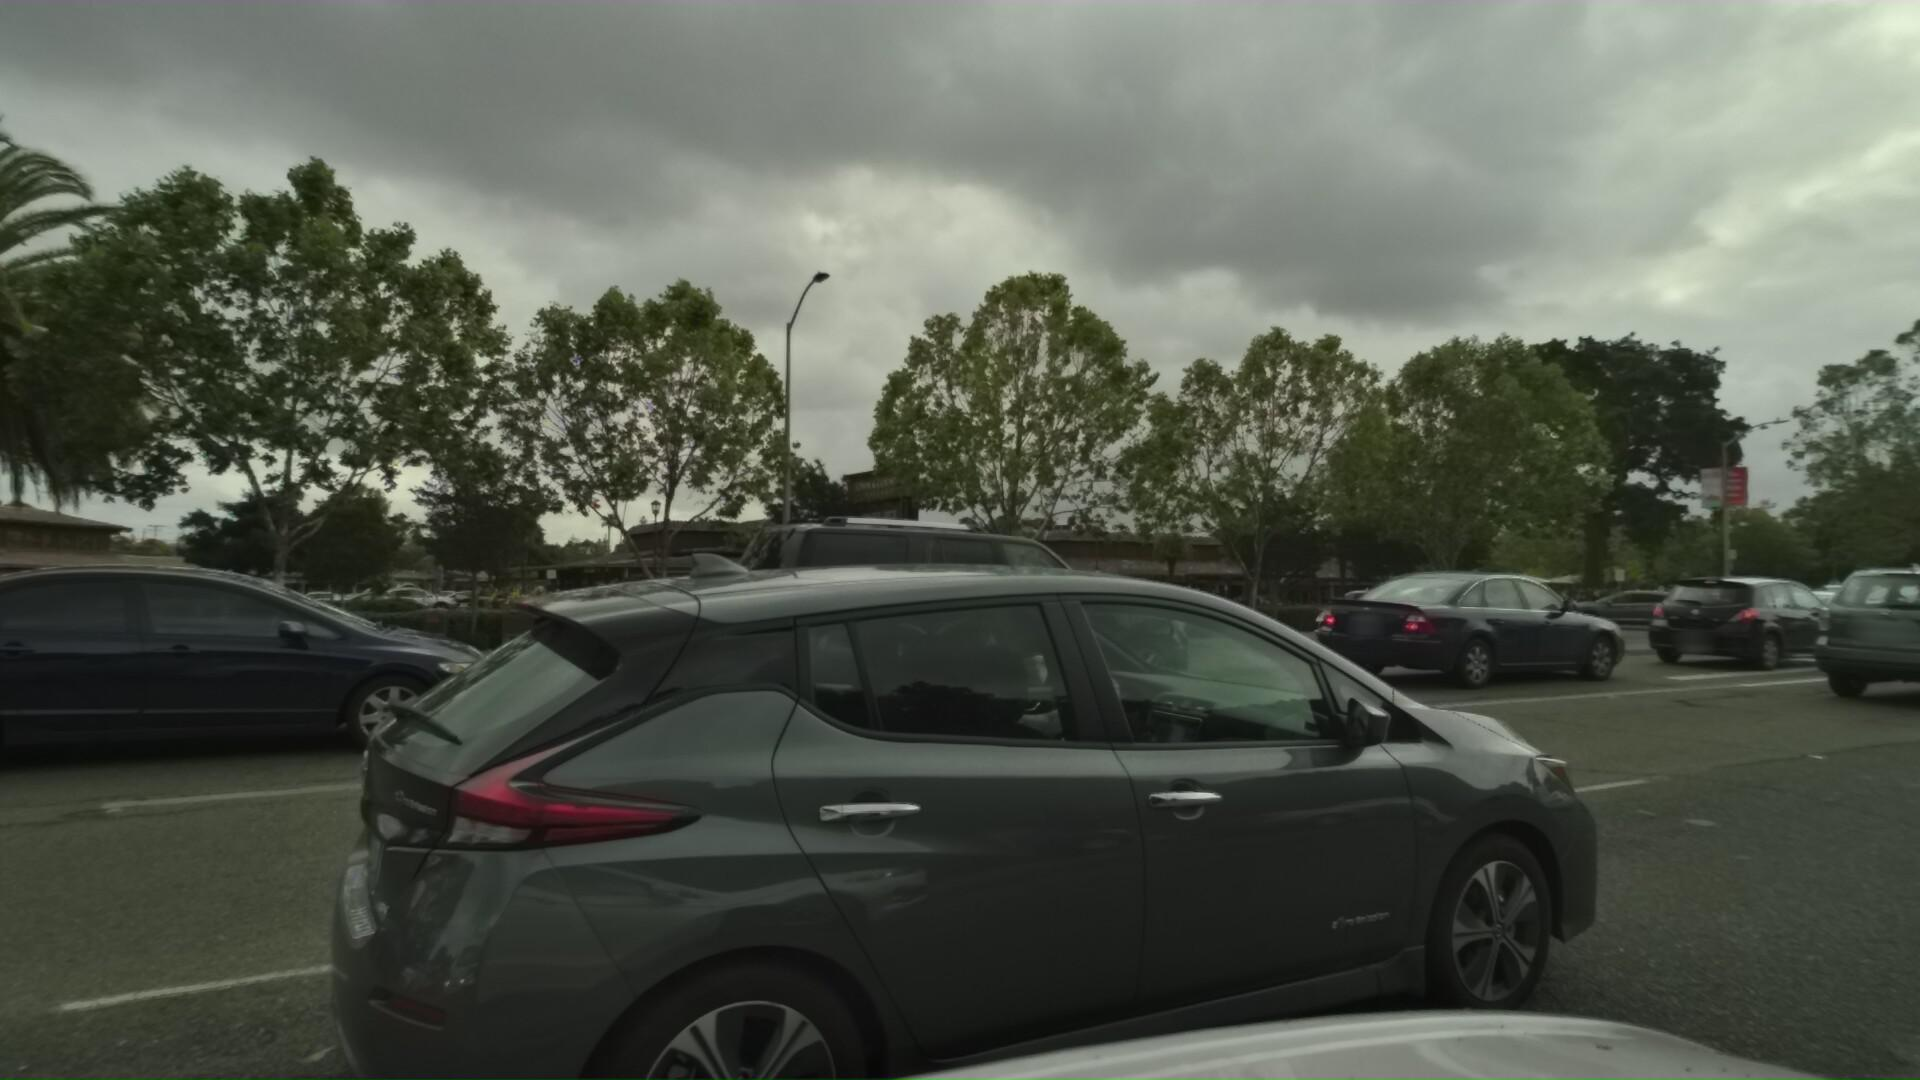car: (344, 500, 1702, 1080), (0, 551, 501, 822), (657, 526, 1207, 766), (1280, 560, 1635, 698), (0, 562, 208, 688), (1621, 567, 1870, 673), (1795, 560, 1920, 720), (1273, 578, 1465, 655), (1705, 585, 1863, 644), (1775, 578, 1907, 632), (1547, 584, 1660, 632)
